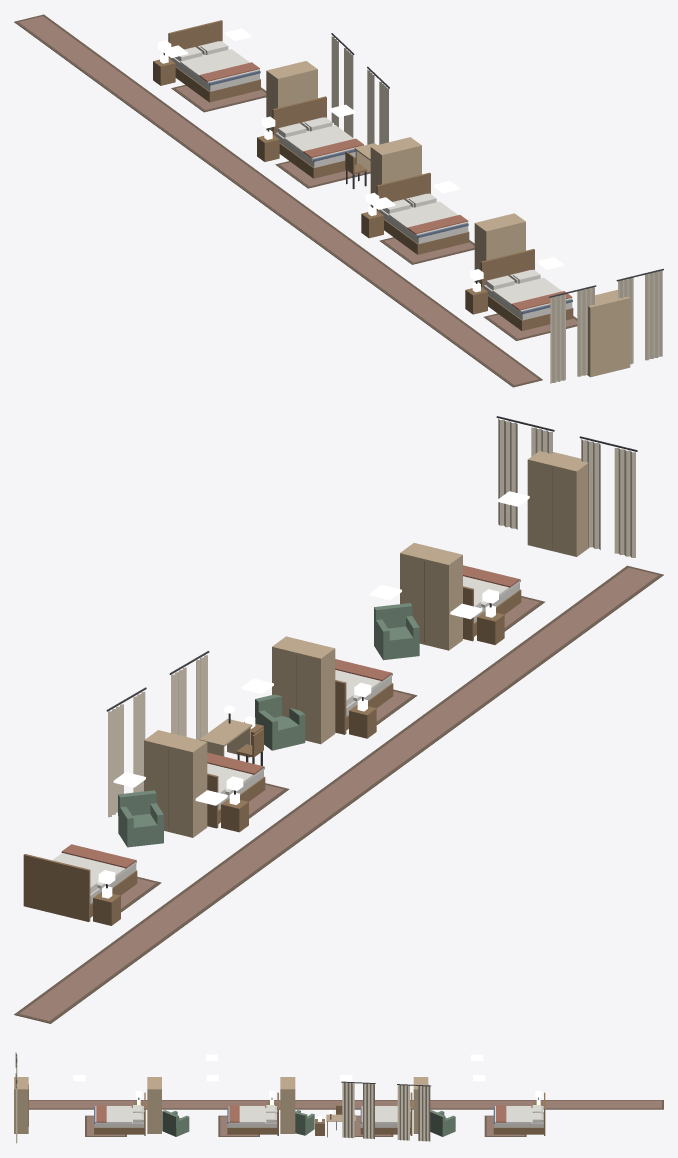
The model's file is fine-s3.glb.
3 renders of one model, top to bottom at view 1: azimuth 30°, elevation 25°; view 2: azimuth 150°, elevation 25°; view 3: azimuth 270°, elevation 25°, orthographic. The views are drawn at different scales.
Parts seen in each view (by area): view 1: soft-s3, dresser.011, bed-frame.008, bed-frame.010, bed-frame.011, bed-frame.009, dresser.010, dresser.008, dresser.009, nightstand.009, nightstand.011, nightstand.010 (+1 smaller); view 2: soft-s3, dresser.011, dresser.008, dresser.010, dresser.009, bed-frame.008, lounge-chair.008, lounge-chair.006, lounge-chair.007, writing-desk.002, bed-frame.010, bed-frame.009 (+5 smaller); view 3: soft-s3, dresser.009, dresser.010, dresser.011, bed-frame.008, bed-frame.011, bed-frame.010, lounge-chair.008, lounge-chair.006, bed-frame.009, dresser.008, lounge-chair.007 (+2 smaller).
Part boxes in pixels (<box>): soft-s3: <box>14,14,663,387</box>; dresser.011: <box>586,289,630,377</box>; bed-frame.008: <box>168,20,260,102</box>; bed-frame.010: <box>376,172,469,254</box>; bed-frame.011: <box>480,249,573,330</box>; bed-frame.009: <box>272,96,355,178</box>; dresser.010: <box>474,213,525,283</box>; dresser.008: <box>266,61,317,130</box>; dresser.009: <box>370,137,421,206</box>; nightstand.009: <box>257,129,279,161</box>; nightstand.011: <box>465,282,487,314</box>; nightstand.010: <box>361,206,383,238</box>; soft-s3: <box>14,416,663,1023</box>; dresser.011: <box>527,451,589,556</box>; dresser.008: <box>144,730,207,837</box>; dresser.010: <box>400,543,462,650</box>; dresser.009: <box>272,636,335,744</box>; bed-frame.008: <box>23,854,137,921</box>; lounge-chair.008: <box>374,603,419,660</box>; lounge-chair.006: <box>118,790,163,847</box>; lounge-chair.007: <box>255,694,305,750</box>; writing-desk.002: <box>199,705,252,757</box>; bed-frame.010: <box>335,673,393,734</box>; bed-frame.009: <box>207,766,265,828</box>; soft-s3: <box>15,1052,663,1143</box>; dresser.009: <box>280,1077,295,1133</box>; dresser.010: <box>147,1077,161,1133</box>; dresser.011: <box>14,1077,28,1133</box>; bed-frame.008: <box>493,1092,545,1135</box>; bed-frame.011: <box>94,1092,145,1135</box>; bed-frame.010: <box>227,1092,278,1135</box>; lounge-chair.008: <box>162,1110,189,1136</box>; lounge-chair.006: <box>430,1110,455,1136</box>; bed-frame.009: <box>360,1092,412,1135</box>; dresser.008: <box>413,1077,428,1133</box>; lounge-chair.007: <box>295,1110,314,1135</box>.
Size of the model in its own units: 4.3 by 2.56 by 26.42.
